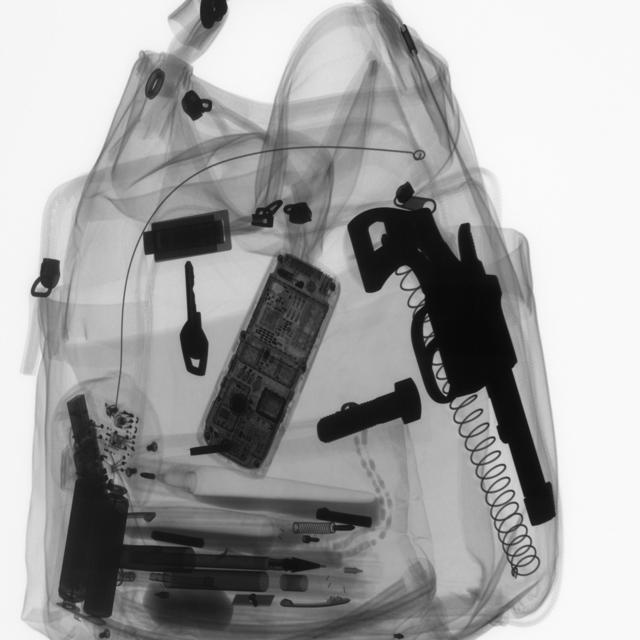gun: (341, 189, 563, 528)
